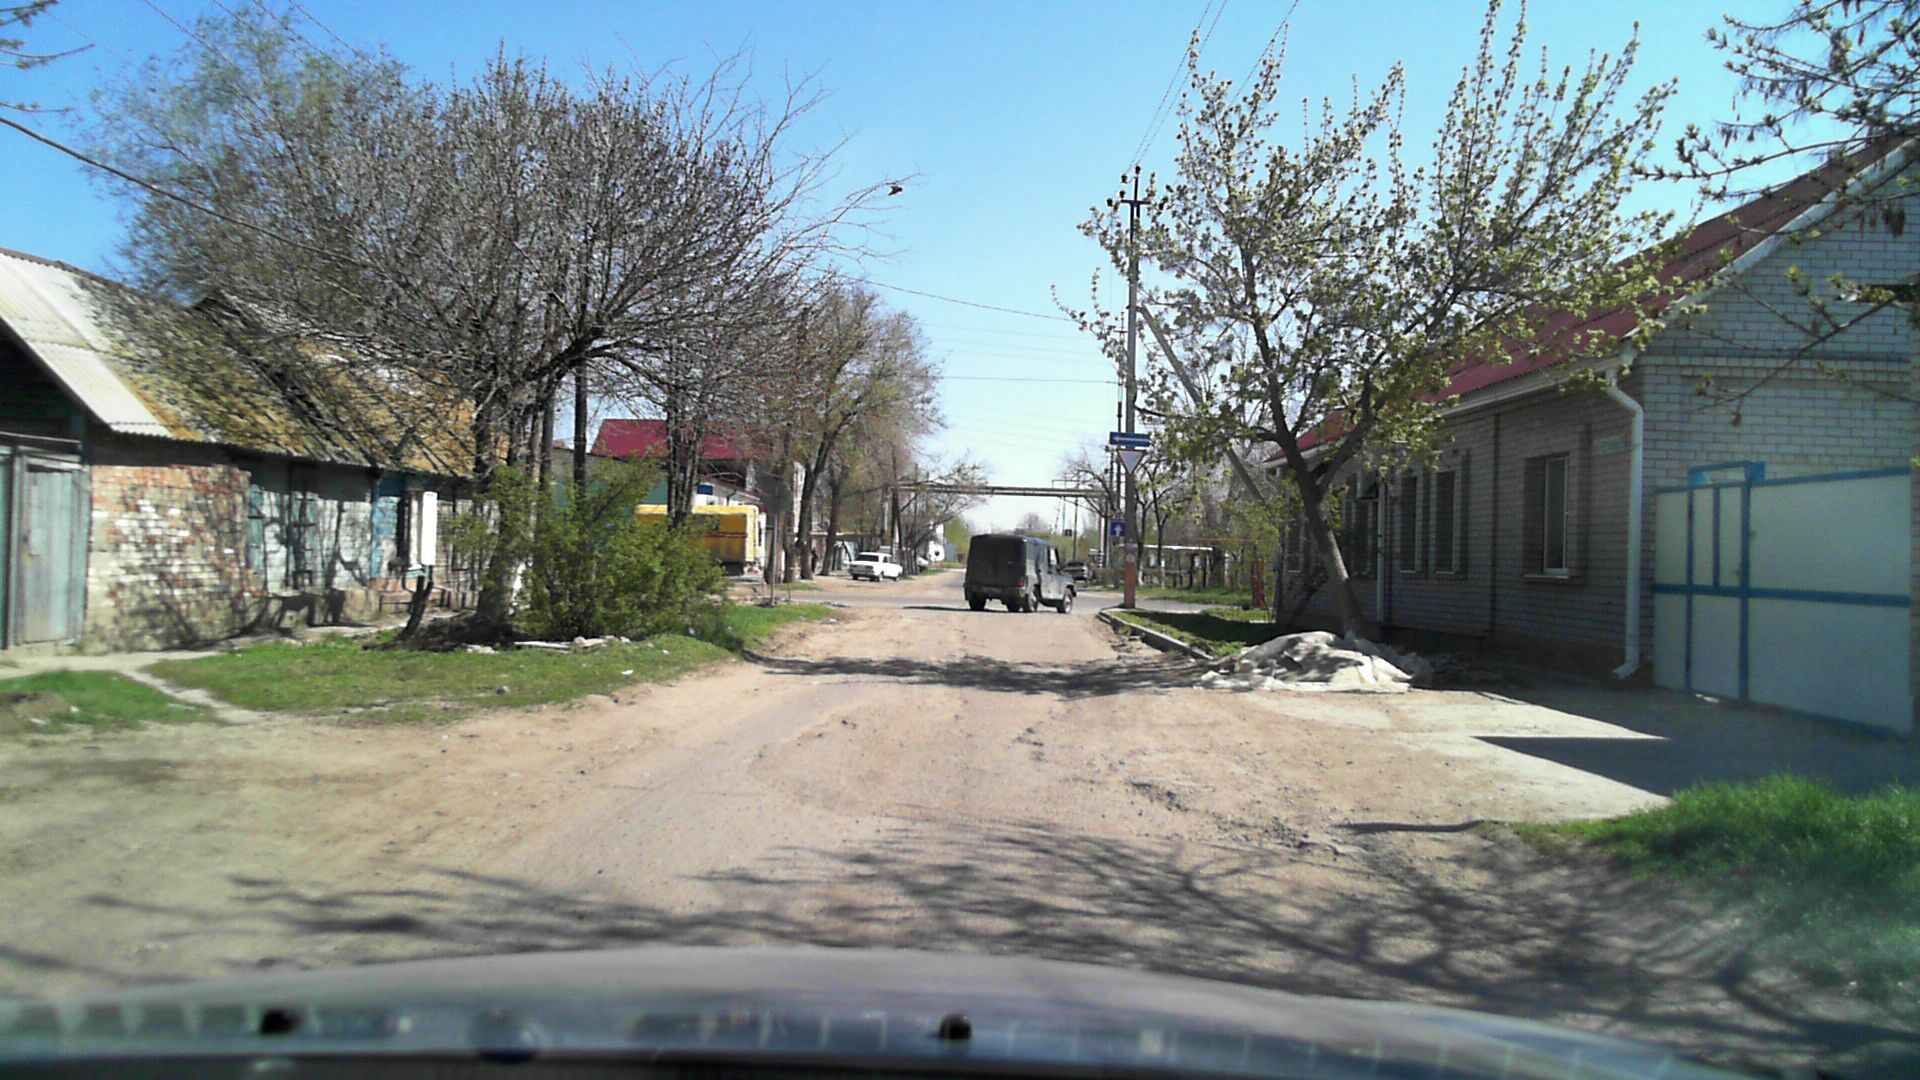One-Way Traffic: (1109, 431, 1151, 446)
